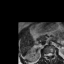CCS_normal: (48, 51, 50, 57)
LFS_normal: (52, 52, 53, 56)
LLS_normal: (50, 51, 52, 57)
RFS_normal: (45, 52, 47, 56)
RLS_normal: (47, 51, 49, 57)
